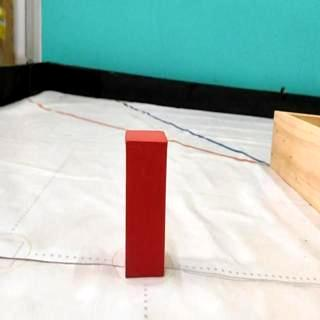redbox: (124, 130, 166, 275)
